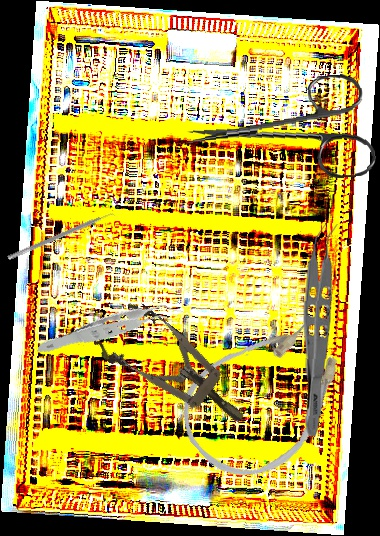Cannula: (161, 292, 373, 501)
Iris Scissors: (180, 72, 378, 191)
Spatula Surgical: (6, 208, 118, 266)
Speculum: (90, 294, 261, 447)
Tissue Forceps: (37, 276, 184, 386), (301, 223, 341, 437)
